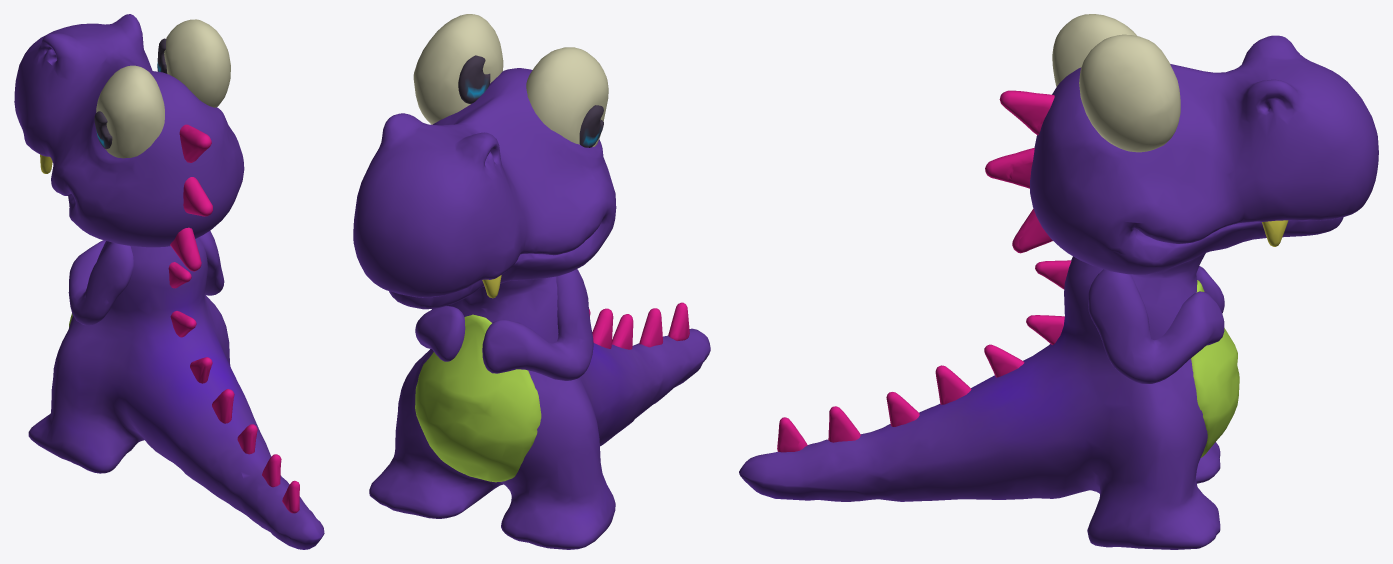
The model's file is dino 1.fbx.
3 views of the same model, side by side, from view 1: azimuth 30°, elevation 25°; view 2: azimuth 150°, elevation 25°; view 3: azimuth 270°, elevation 25° (orthographic). The views are drawn at different scales.
Visible parts, largest first — view 1: Layer_9; view 2: Layer_9; view 3: Layer_9.
Boxes of the visible parts, <box> form: Layer_9: <box>14,14,324,549</box>; Layer_9: <box>353,14,710,549</box>; Layer_9: <box>739,14,1378,549</box>.
Bounding box in the file's own units: 63 × 130 × 152.
